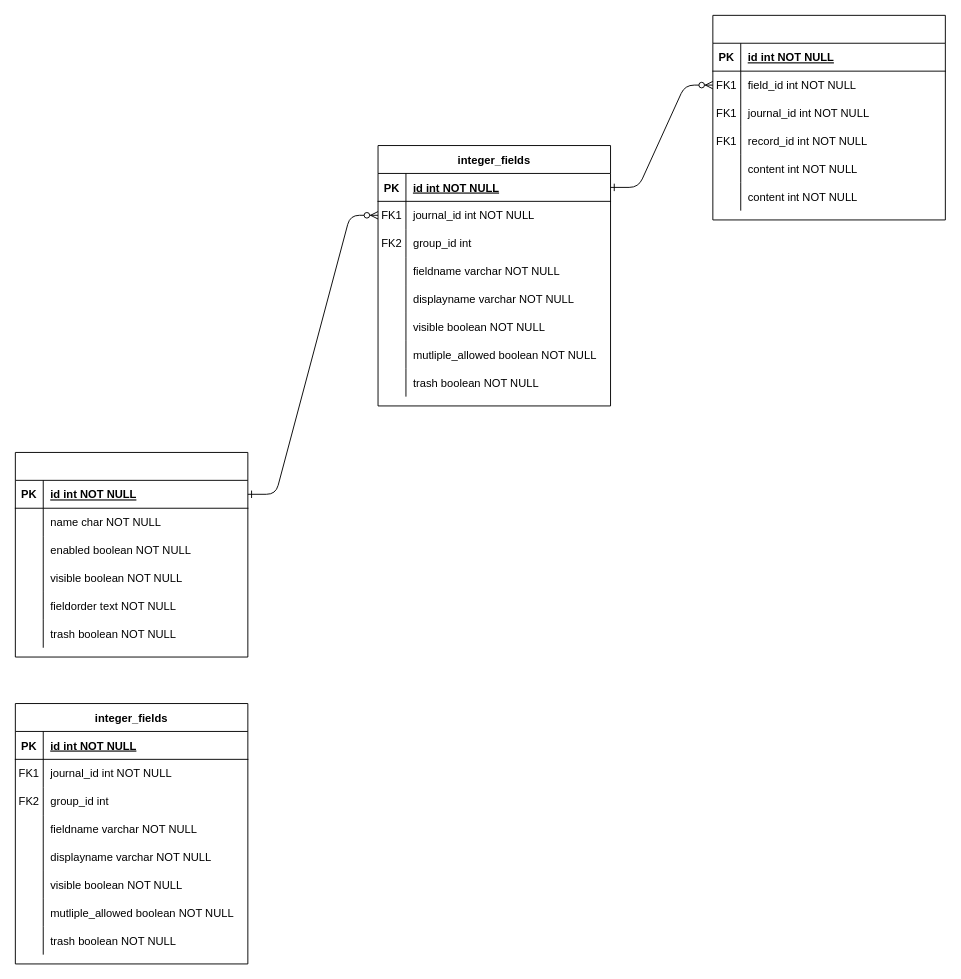
This 961x979 diagram has some shape labels left out. Each missing label, with the box of its shape:
integer_contents: (712, 14, 945, 220)
journals: (14, 452, 248, 657)
